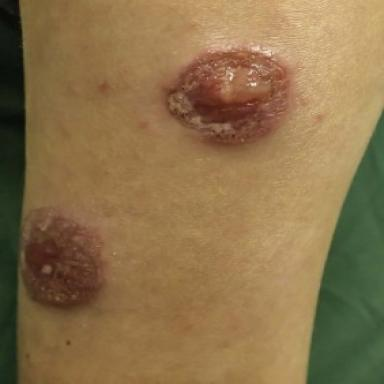Leishmanios: (167, 47, 293, 144), (22, 208, 104, 308)
